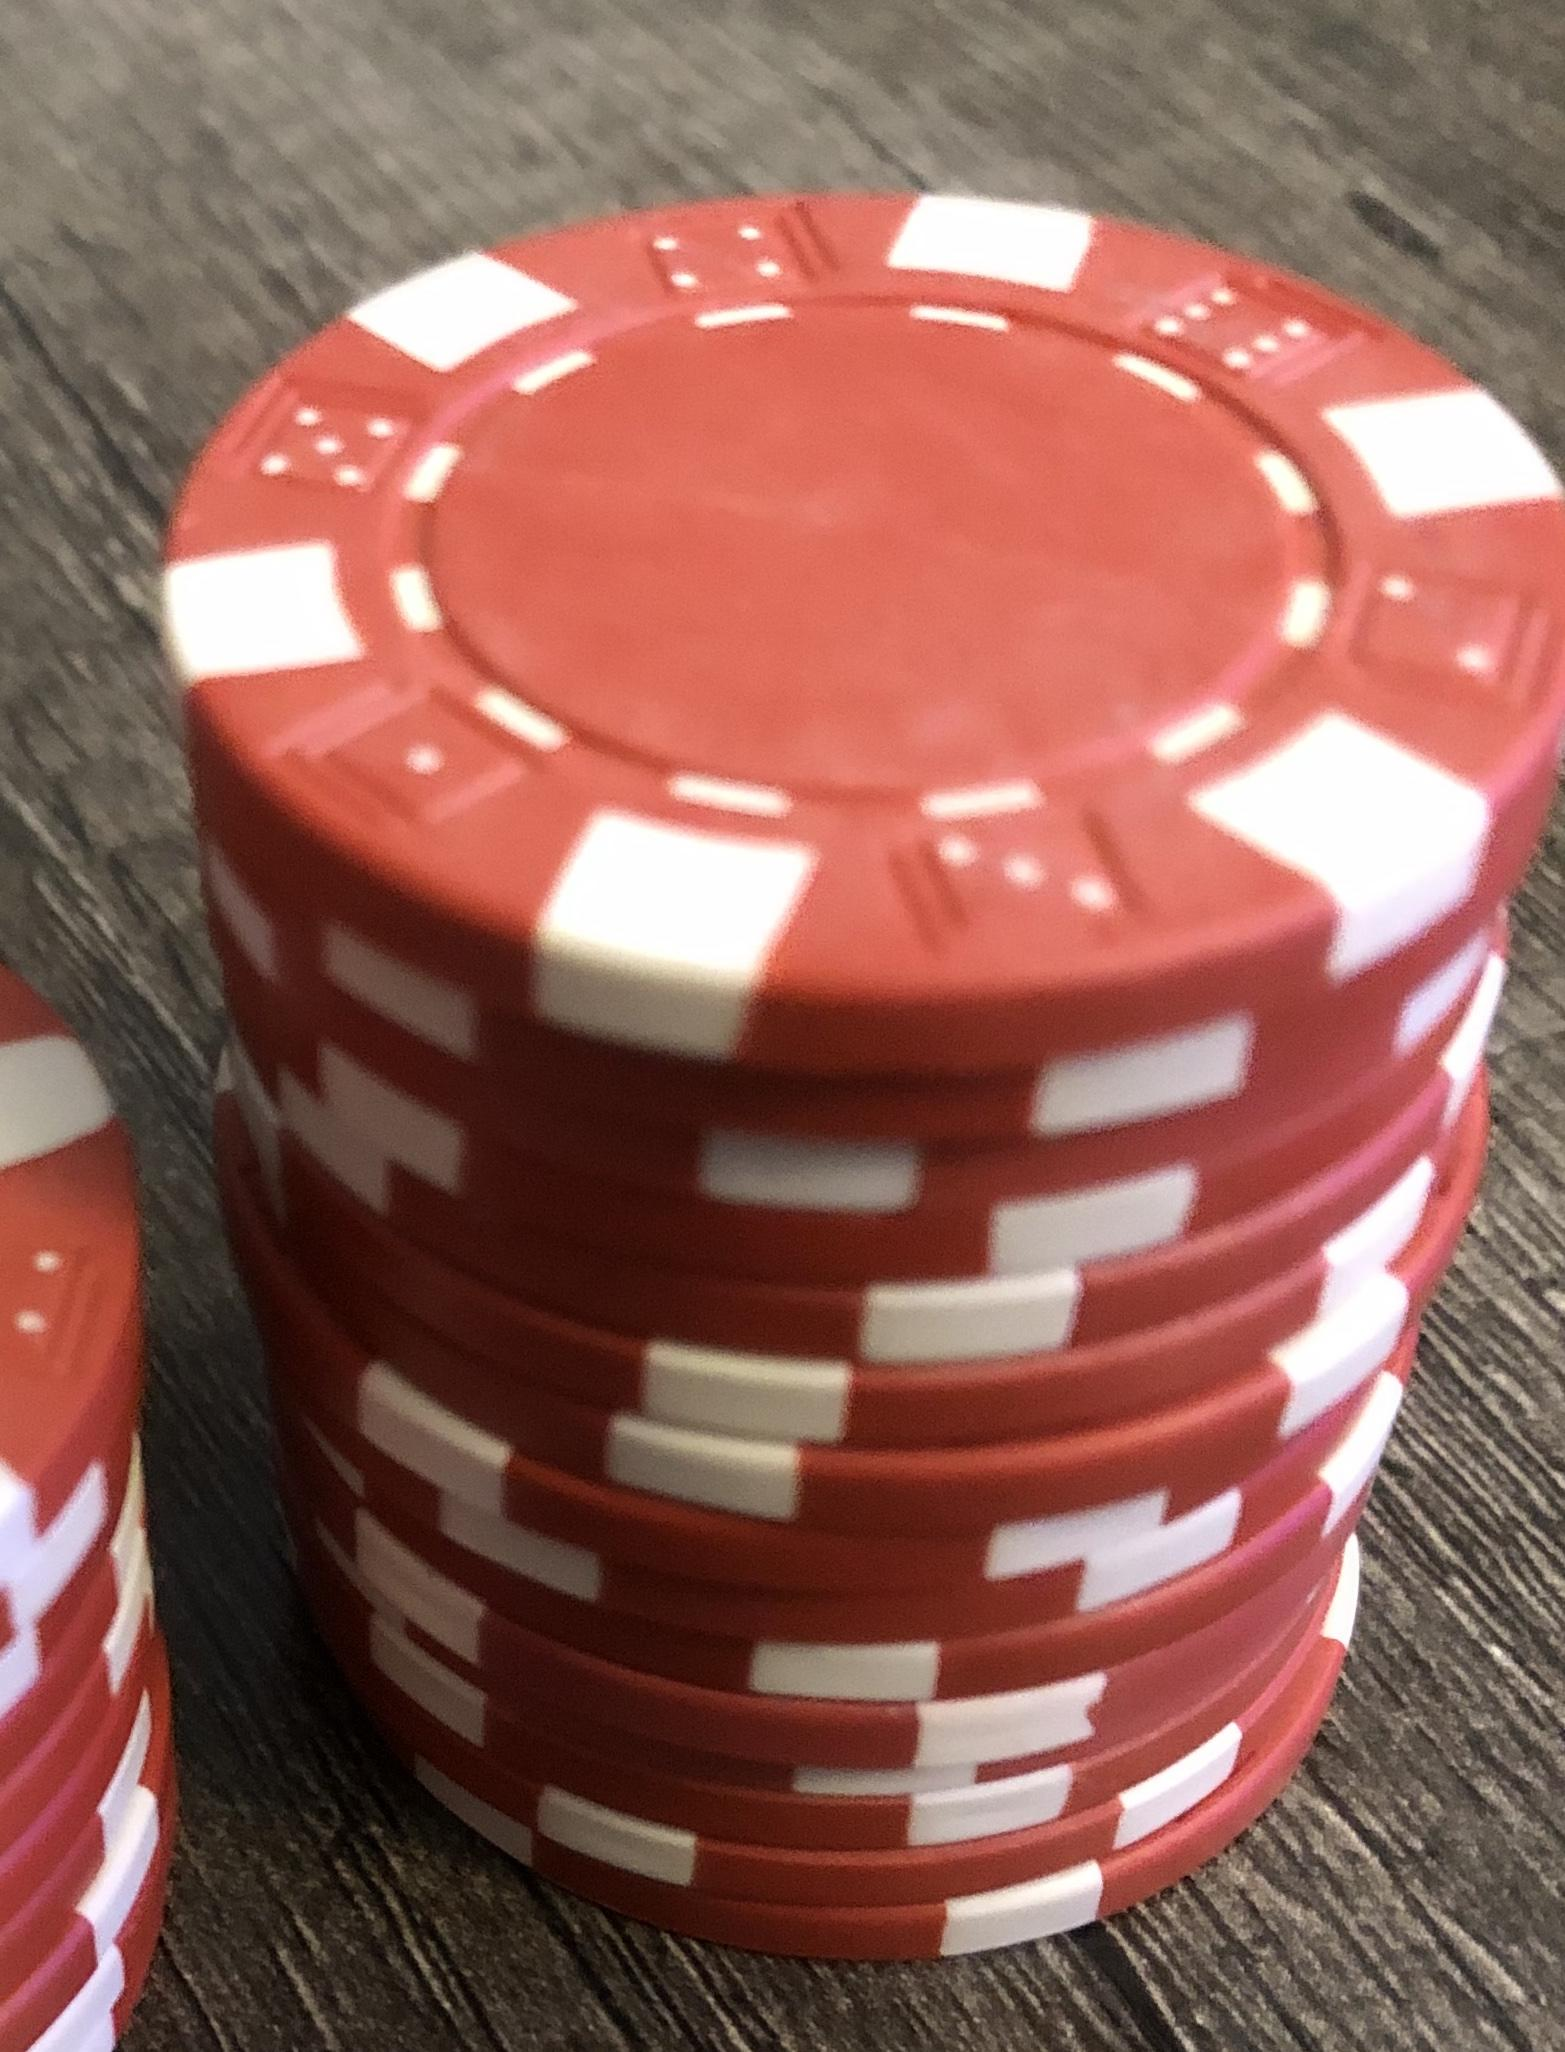Chip: (2, 2, 1565, 2052)
